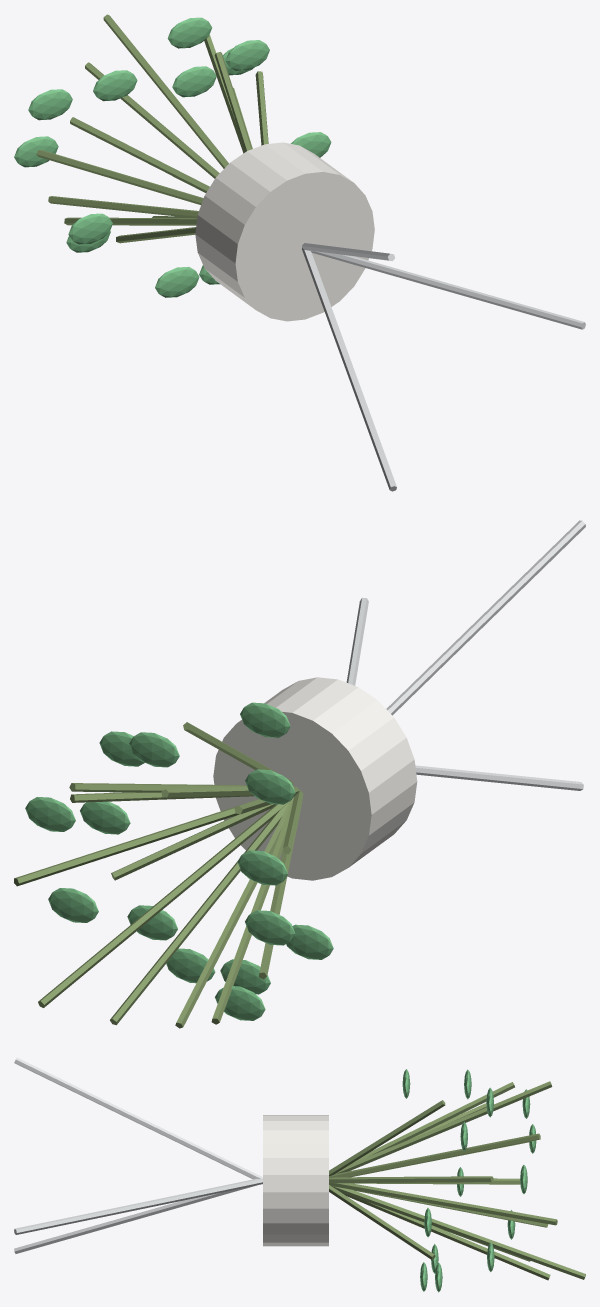
File: PLANT_HANGING_001.glb
3 views of the same model, one above another, from view 1: azimuth 30°, elevation 25°; view 2: azimuth 150°, elevation 25°; view 3: azimuth 270°, elevation 25° (orthographic). The views are drawn at different scales.
Visible parts, largest first — view 1: hanging_pot_000, hanger_001, hanger_003, vine_012, vine_018, vine_016, vine_020, vine_014, leaf_011, leaf_021, leaf_025, leaf_013 (+9 smaller); view 2: hanging_pot_000, vine_028, hanger_002, vine_026, vine_004, vine_024, hanger_003, vine_022, vine_030, leaf_017, leaf_019, leaf_015 (+16 smaller); view 3: hanging_pot_000, hanger_002, hanger_001, vine_028, vine_004, vine_012, vine_008, hanger_003, vine_026, vine_006, vine_014, vine_010 (+3 smaller).
Part boxes in pixels (x1=…): hanging_pot_000: x1=195, y1=142, x2=374, y2=321; hanger_001: x1=307, y1=243, x2=585, y2=329; hanger_003: x1=302, y1=248, x2=396, y2=491; vine_012: x1=103, y1=14, x2=228, y2=168; vine_018: x1=36, y1=150, x2=203, y2=204; vine_016: x1=70, y1=117, x2=209, y2=192; vine_020: x1=48, y1=196, x2=198, y2=218; vine_014: x1=85, y1=62, x2=219, y2=178; leaf_011: x1=167, y1=17, x2=212, y2=48; leaf_021: x1=68, y1=213, x2=112, y2=244; leaf_025: x1=155, y1=266, x2=199, y2=297; leaf_013: x1=172, y1=66, x2=216, y2=97; hanging_pot_000: x1=213, y1=677, x2=417, y2=880; vine_028: x1=38, y1=798, x2=292, y2=1007; hanger_002: x1=386, y1=520, x2=585, y2=715; vine_026: x1=110, y1=802, x2=289, y2=1025; vine_004: x1=14, y1=799, x2=258, y2=886; vine_024: x1=175, y1=799, x2=292, y2=1028; hanger_003: x1=415, y1=765, x2=583, y2=790; vine_022: x1=211, y1=797, x2=293, y2=1024; vine_030: x1=111, y1=804, x2=275, y2=880; leaf_017: x1=237, y1=850, x2=287, y2=885; leaf_019: x1=245, y1=910, x2=295, y2=945; leaf_015: x1=245, y1=769, x2=295, y2=804; hanging_pot_000: x1=263, y1=1115, x2=328, y2=1246; hanger_002: x1=14, y1=1057, x2=262, y2=1179; hanger_001: x1=14, y1=1178, x2=262, y2=1234; vine_028: x1=331, y1=1186, x2=585, y2=1279; vine_004: x1=329, y1=1183, x2=557, y2=1225; vine_012: x1=335, y1=1081, x2=552, y2=1173; vine_008: x1=329, y1=1133, x2=540, y2=1177; hanger_003: x1=14, y1=1185, x2=256, y2=1253; vine_026: x1=341, y1=1192, x2=550, y2=1280; vine_006: x1=329, y1=1176, x2=493, y2=1183; vine_014: x1=353, y1=1082, x2=514, y2=1162; vine_010: x1=329, y1=1100, x2=445, y2=1176.
Bounding box in the file's own units: 0.4439 × 0.4 × 1.04.
